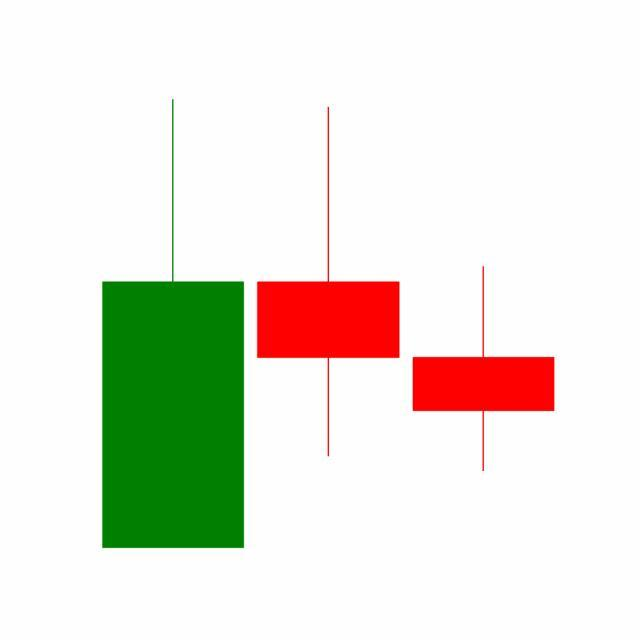Spinning Top: (250, 103, 407, 461)
